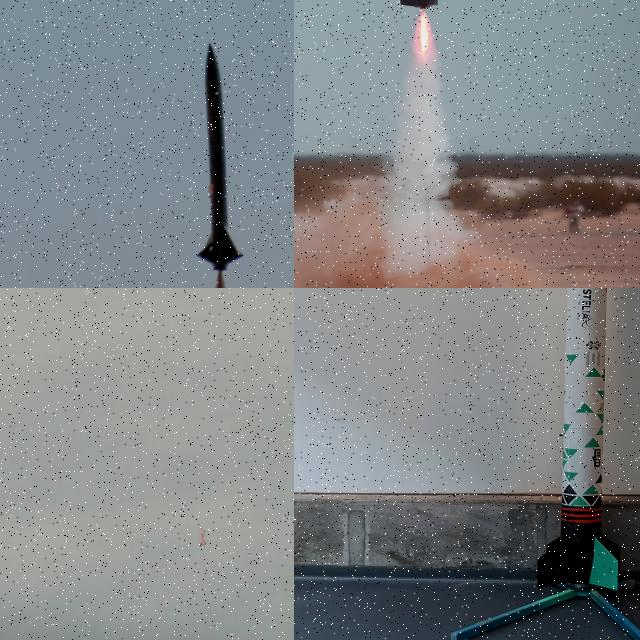Rocket: (537, 288, 620, 591), (194, 42, 245, 272), (200, 528, 208, 545)
